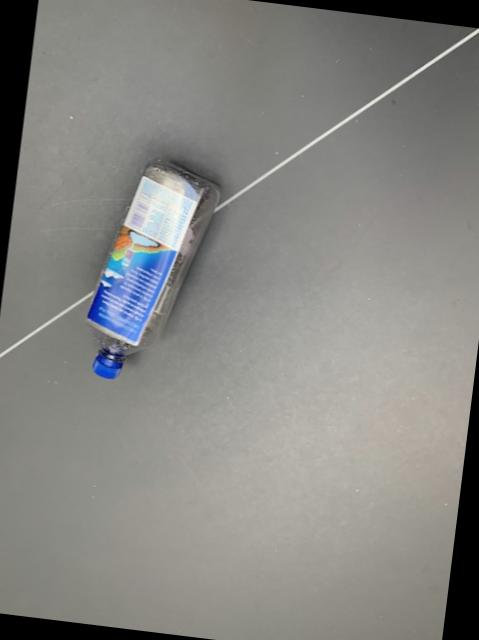plastic: (88, 163, 220, 378)
